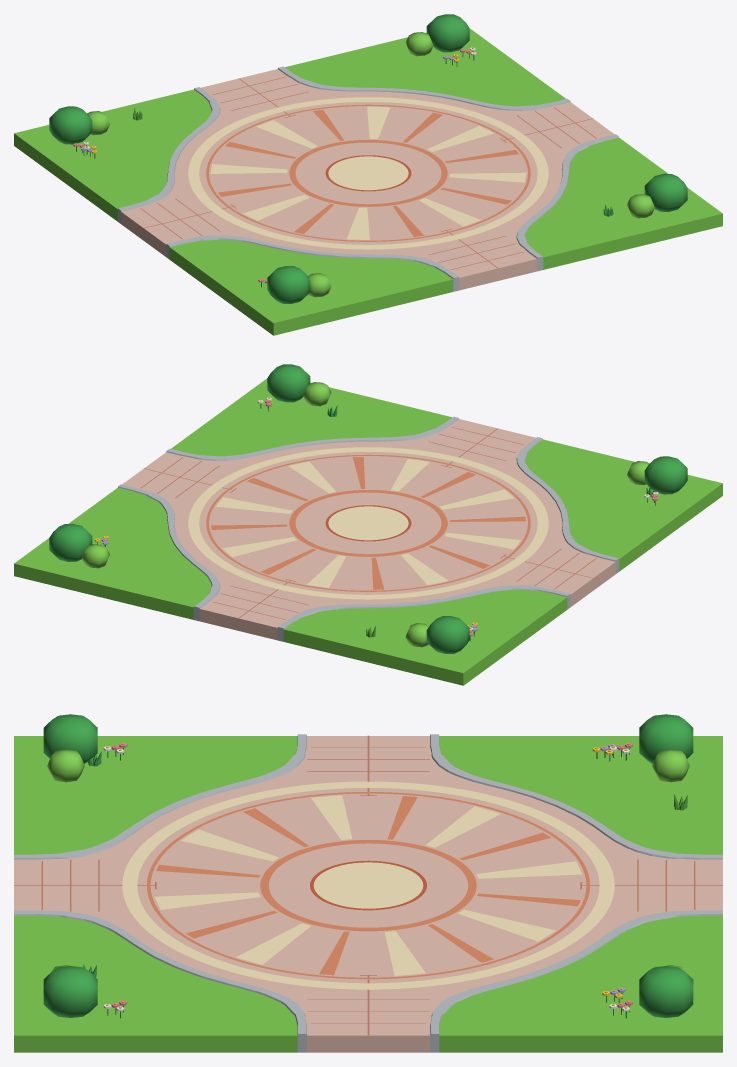
The model's file is praca_redonda.glb.
The picture shows the model from 3 angles, top to bottom: view 1: azimuth 30°, elevation 25°; view 2: azimuth 150°, elevation 25°; view 3: azimuth 270°, elevation 25°; orthographic projection. The views are drawn at different scales.
Visible parts, largest first — view 1: praca_redonda; view 2: praca_redonda; view 3: praca_redonda.
Boxes of the visible parts, <box> form: praca_redonda: <box>14,14,722,335</box>; praca_redonda: <box>14,364,722,685</box>; praca_redonda: <box>14,714,722,1052</box>.
Bounding box in the file's own units: 15 × 1.35 × 15.
Materials: 1 (1 with a texture image).
